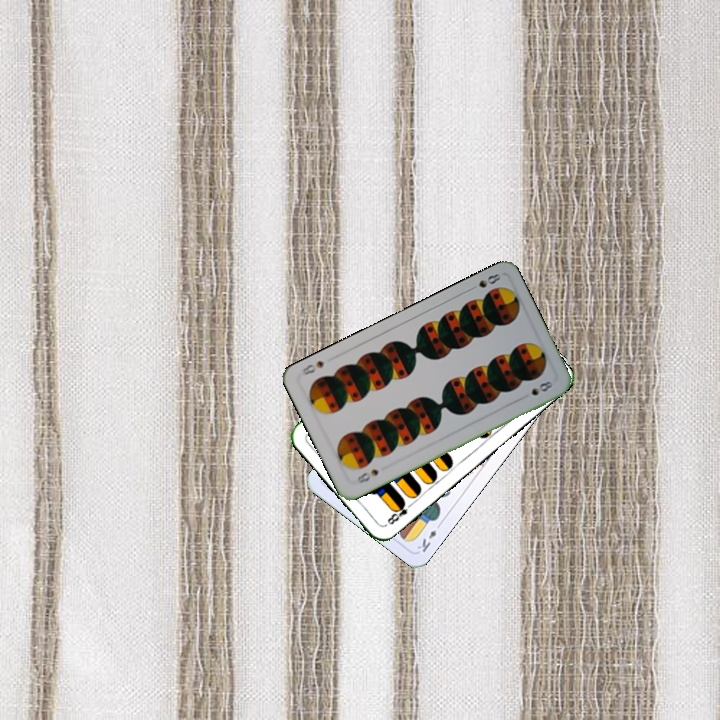E8: (382, 497, 416, 528)
EK: (413, 518, 444, 555)
S8: (465, 269, 503, 294), (353, 465, 381, 486)
